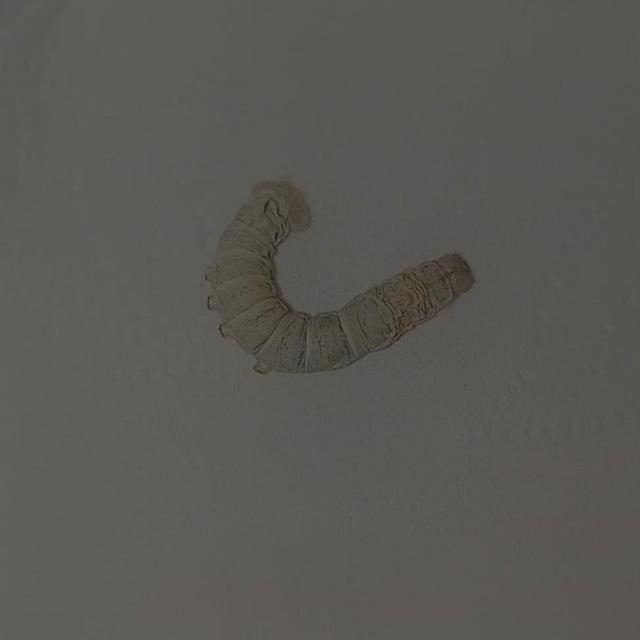Healthy: (184, 157, 496, 411)
